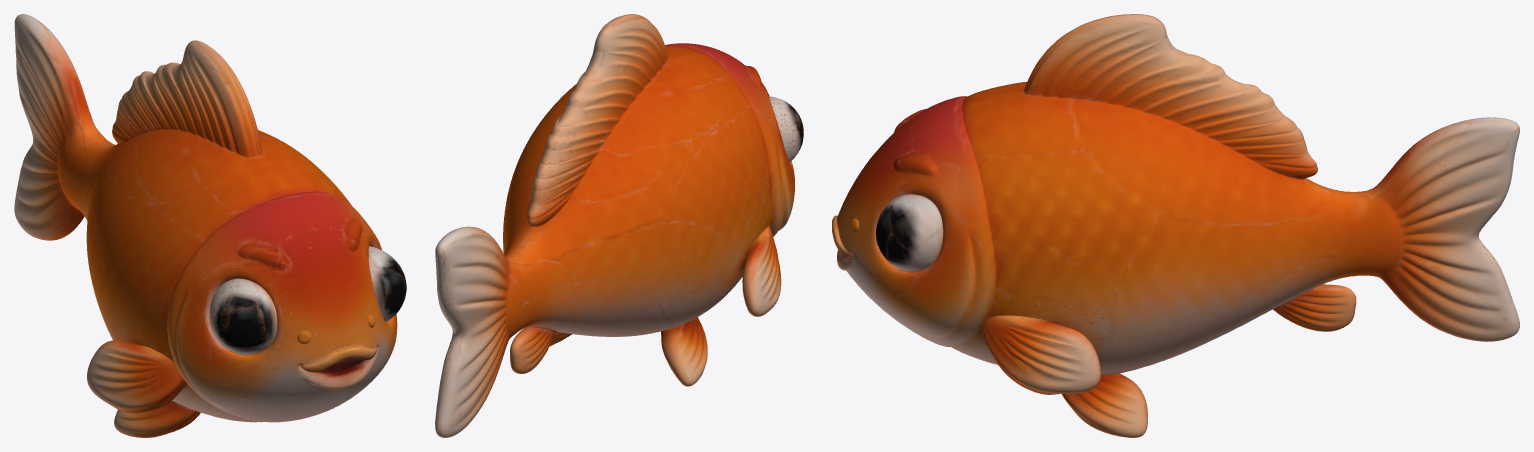
The model's file is hy3_fish_draco.glb.
3 renders of one model, left to right at view 1: azimuth 30°, elevation 25°; view 2: azimuth 150°, elevation 25°; view 3: azimuth 270°, elevation 25°, orthographic. The views are drawn at different scales.
Visible parts, largest first — view 1: material; view 2: material; view 3: material.
Part boxes in pixels (left/top/right/bottom): material: left=14, top=14, right=406, bottom=437; material: left=435, top=14, right=803, bottom=437; material: left=832, top=14, right=1519, bottom=437.
Size of the model in its own units: 0.5339 by 0.6864 by 1.12.
1 material, 1 textured.
